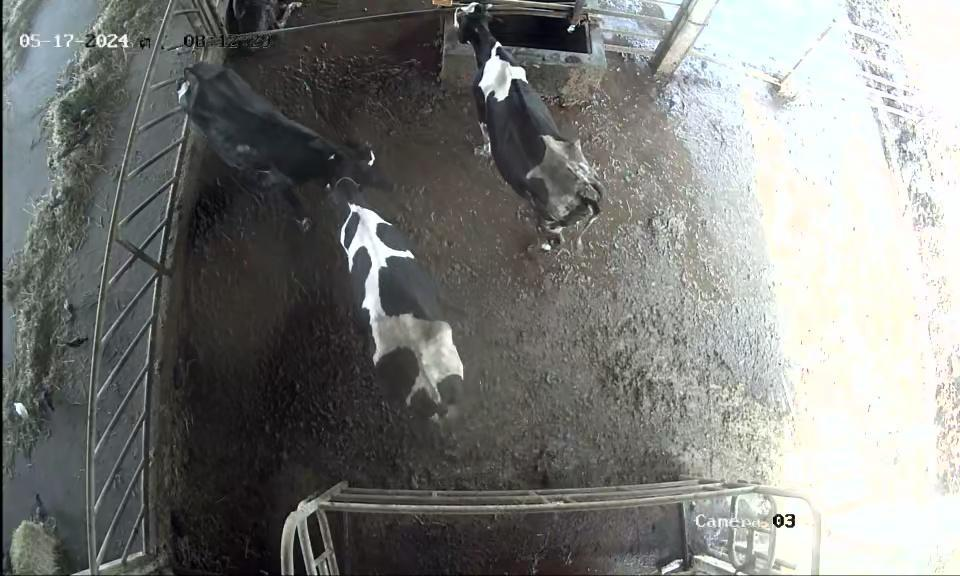drink: (442, 0, 548, 98)
stand: (309, 166, 487, 439), (166, 58, 411, 228)
